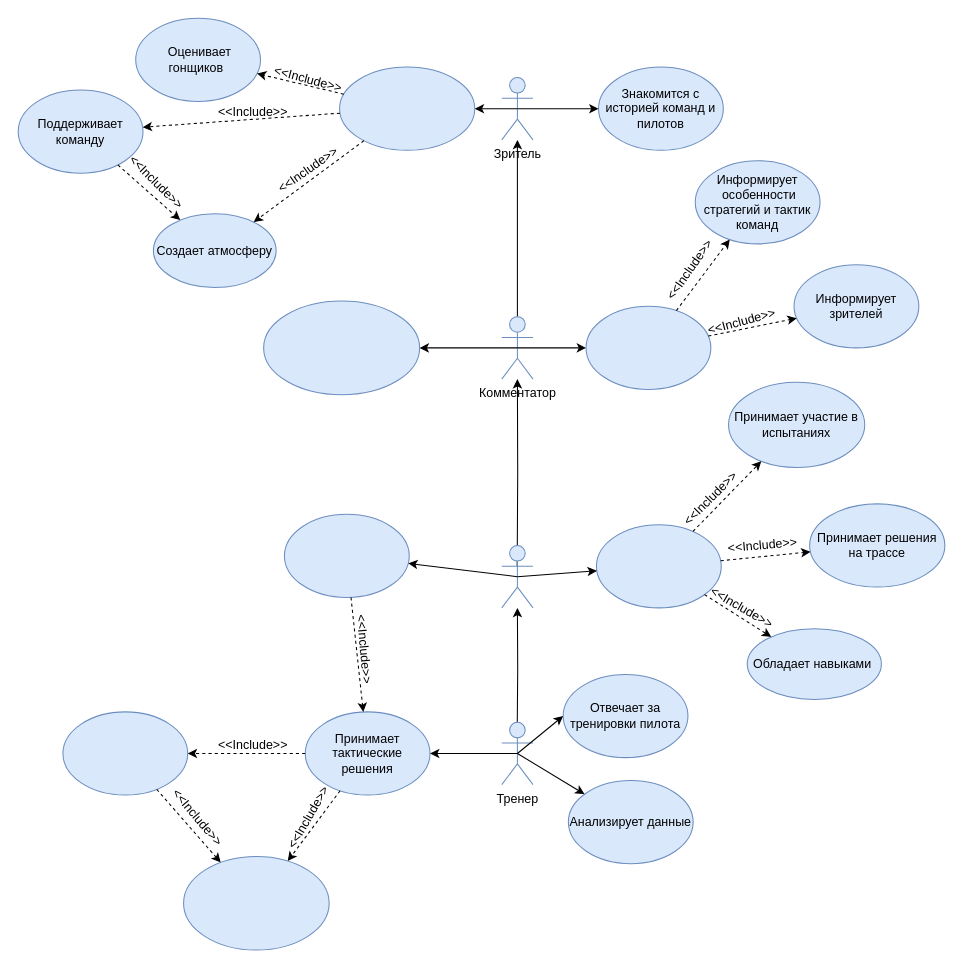
Some shapes in this 963 by 968 pixel diagram are drawn without their labels. The shapes that lost their labels are listed below. From the top down, each one's box as (x1, y1, x2, y2) in pixels, then its label:
(339, 66, 475, 150): Наблюдает за гонкой
(263, 300, 420, 395): Проводит интервью с пилотами
(585, 305, 711, 389): Комментирует происходящее на трассе
(283, 513, 409, 597): Соблюдает правила и тактику гонки
(595, 524, 721, 608): Управляет машиной
(501, 544, 533, 608): Пилот
(62, 711, 188, 795): Разрабатывает стратегию гонки
(183, 855, 329, 950): Координирует работу команды
